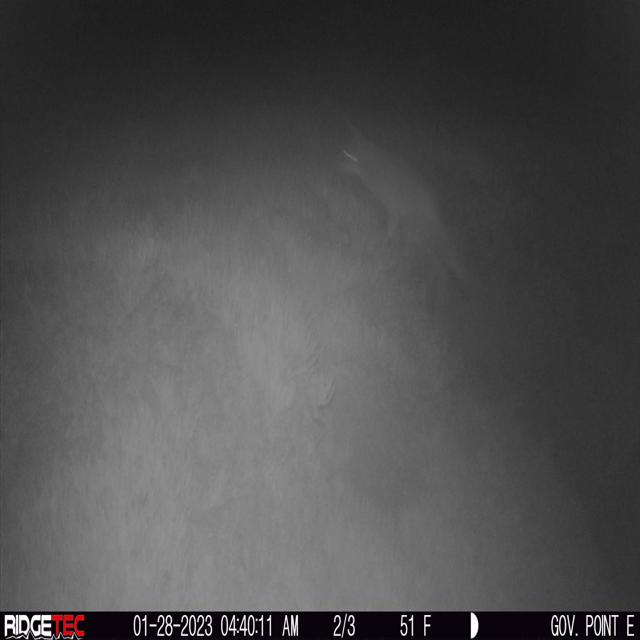coyote: (330, 121, 476, 299)
